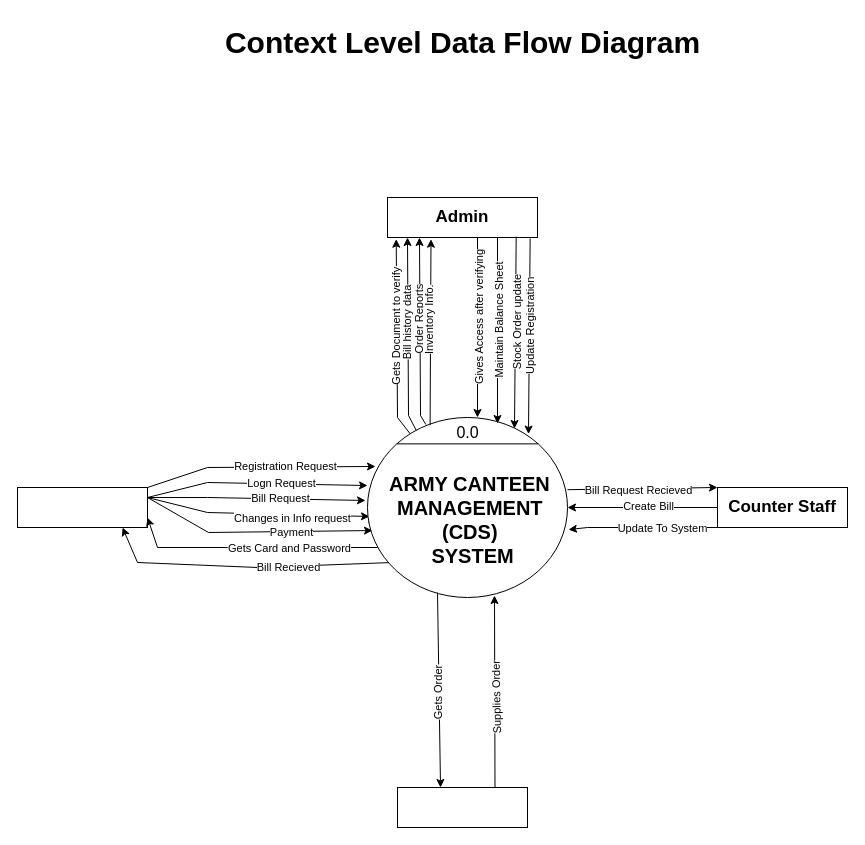
Some shapes in this 865 by 845 pixel diagram are drawn without their labels. Each missing label, with the box of its shape:
Customer: (16, 486, 148, 528)
Supplier: (396, 786, 528, 828)
